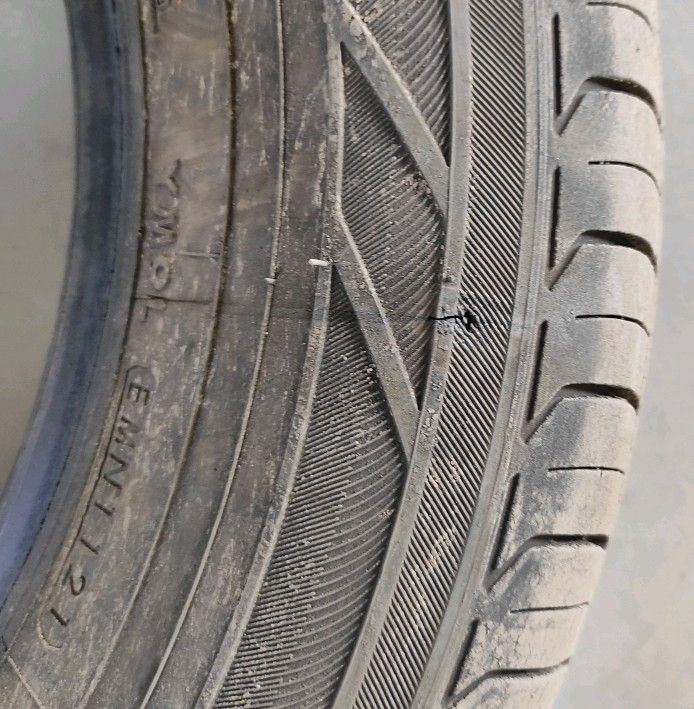cut: (427, 309, 485, 335)
